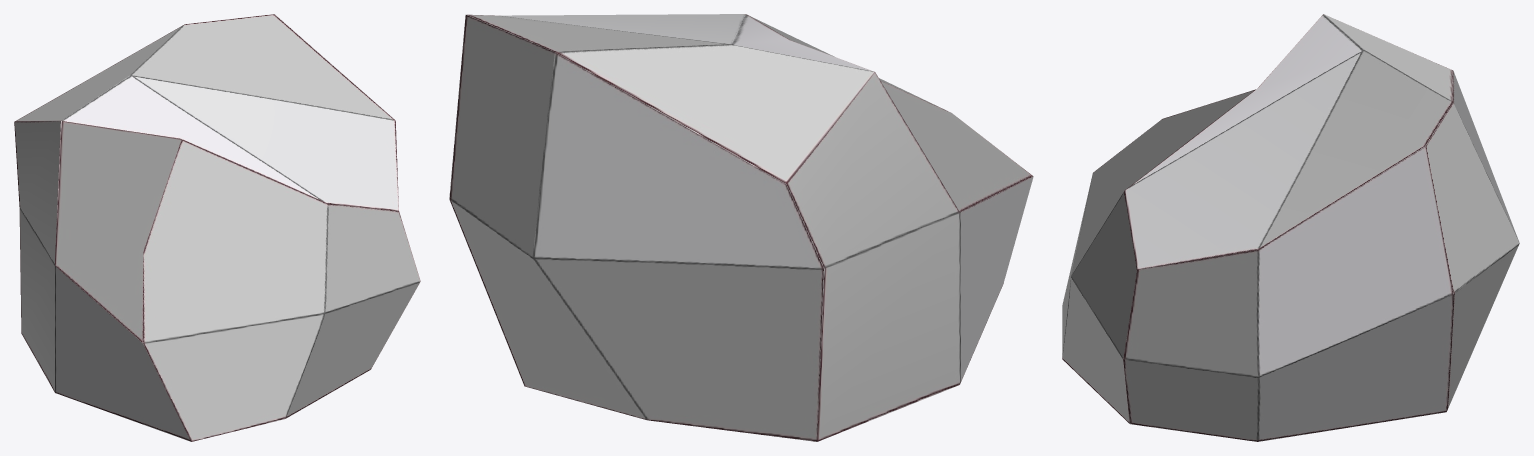
The model's file is rock.fbx.
3 renders of one model, left to right at view 1: azimuth 30°, elevation 25°; view 2: azimuth 150°, elevation 25°; view 3: azimuth 270°, elevation 25°, orthographic. The views are drawn at different scales.
Parts seen in each view (by area): view 1: Box001; view 2: Box001; view 3: Box001.
Part boxes in pixels (left/top/right/bottom): Box001: left=14, top=14, right=420, bottom=441; Box001: left=449, top=14, right=1033, bottom=441; Box001: left=1062, top=14, right=1519, bottom=441.
Size of the model in its own units: 280 by 200 by 281.
